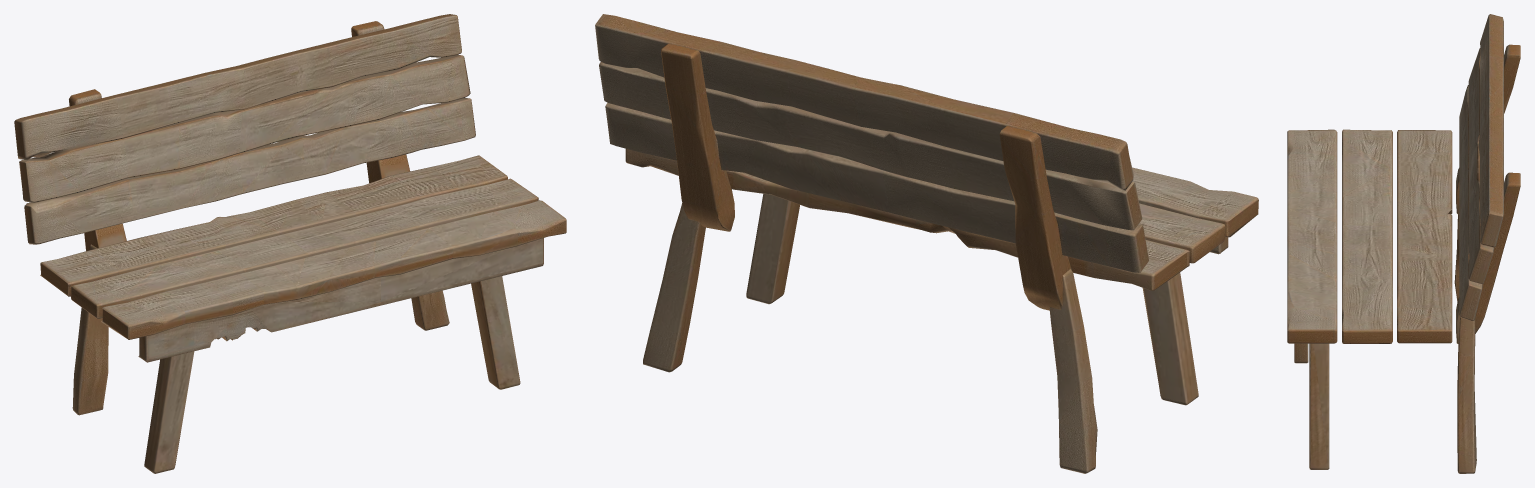
Rendered from bench.glb.
3 renders of one model, left to right at view 1: azimuth 30°, elevation 25°; view 2: azimuth 150°, elevation 25°; view 3: azimuth 270°, elevation 25°, orthographic. The views are drawn at different scales.
Size of the model in its own units: 0.9565 by 0.6084 by 0.4672.
Materials: 1 (1 with a texture image).
